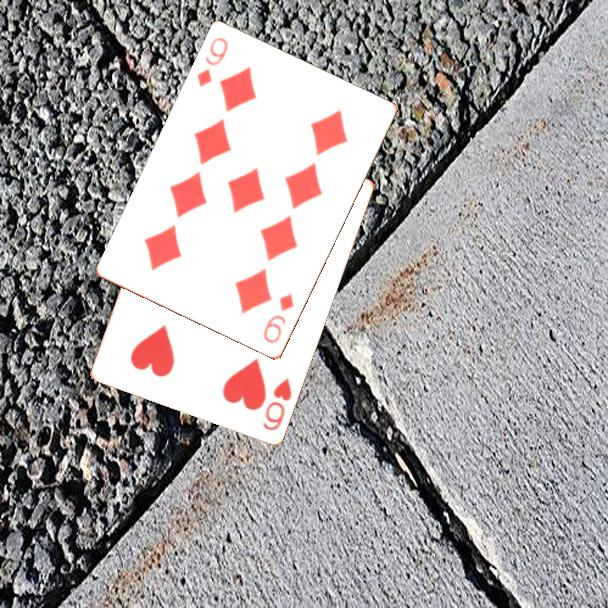d09: (193, 34, 232, 91), (260, 290, 297, 347)
h06: (259, 374, 294, 433)
